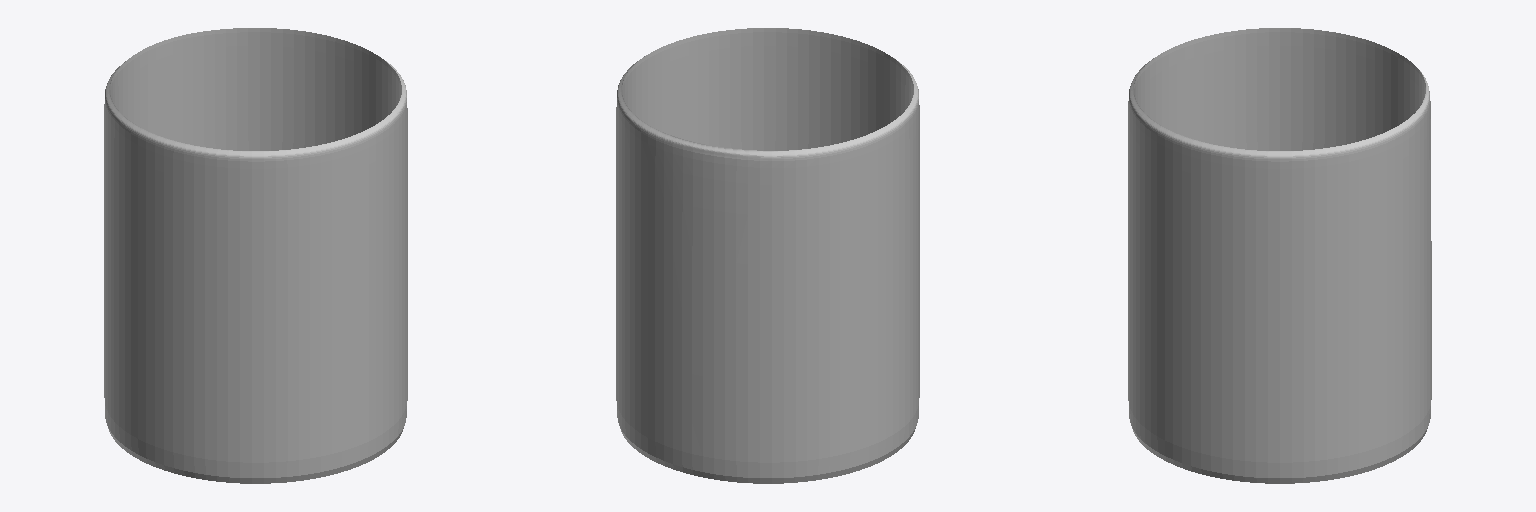
Rendered from glass2.obj.
3 views of the same model, side by side, from view 1: azimuth 30°, elevation 25°; view 2: azimuth 150°, elevation 25°; view 3: azimuth 270°, elevation 25° (orthographic).
Visible parts, largest first — view 1: uploads_files_830301_water+glass; view 2: uploads_files_830301_water+glass; view 3: uploads_files_830301_water+glass.
Boxes of the visible parts, x1=… form: uploads_files_830301_water+glass: x1=104, y1=28, x2=407, y2=483; uploads_files_830301_water+glass: x1=616, y1=28, x2=919, y2=483; uploads_files_830301_water+glass: x1=1128, y1=28, x2=1431, y2=483.
Bounding box in the file's own units: 4.15 × 5.06 × 4.15.